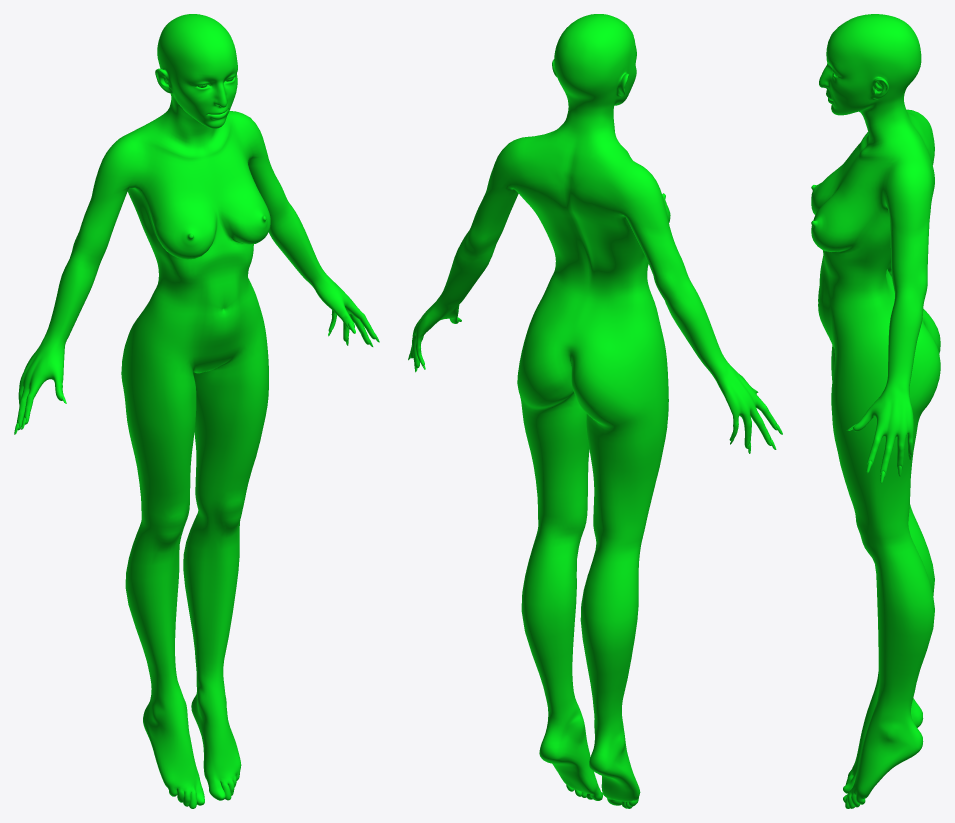
Rendered from realistic_female_body.glb.
3 renders of one model, left to right at view 1: azimuth 30°, elevation 25°; view 2: azimuth 150°, elevation 25°; view 3: azimuth 270°, elevation 25°, orthographic. The views are drawn at different scales.
Visible parts, largest first — view 1: MOLLY_2; view 2: MOLLY_2; view 3: MOLLY_2.
Boxes of the visible parts, x1,y1,x2,y2 form: MOLLY_2: (16,14,376,808); MOLLY_2: (410,14,777,808); MOLLY_2: (811,14,940,808).
Bounding box in the file's own units: 86.36 × 178 × 26.7.
